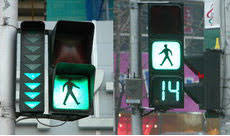traffic_light: (51, 31, 92, 113), (148, 3, 184, 72)
traffic_light_left: (20, 24, 45, 113)
traffic_light_number: (150, 76, 185, 106)
